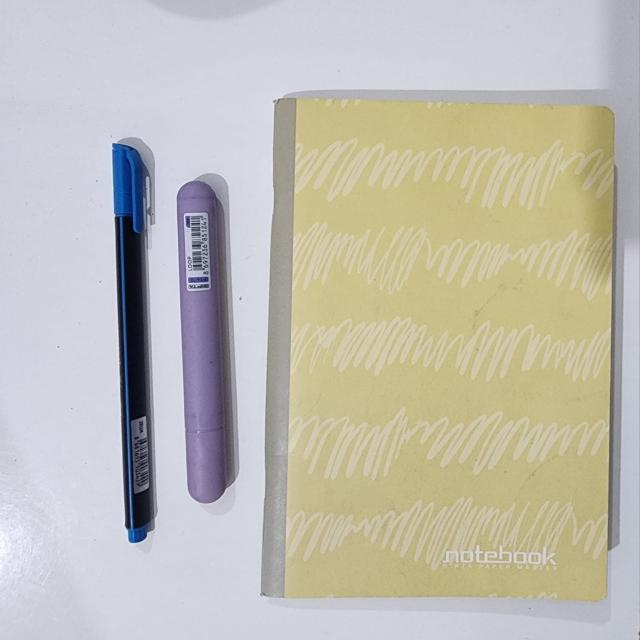defter: (261, 98, 612, 601)
kalem1: (113, 143, 151, 544)
kalem2: (177, 181, 226, 503)
